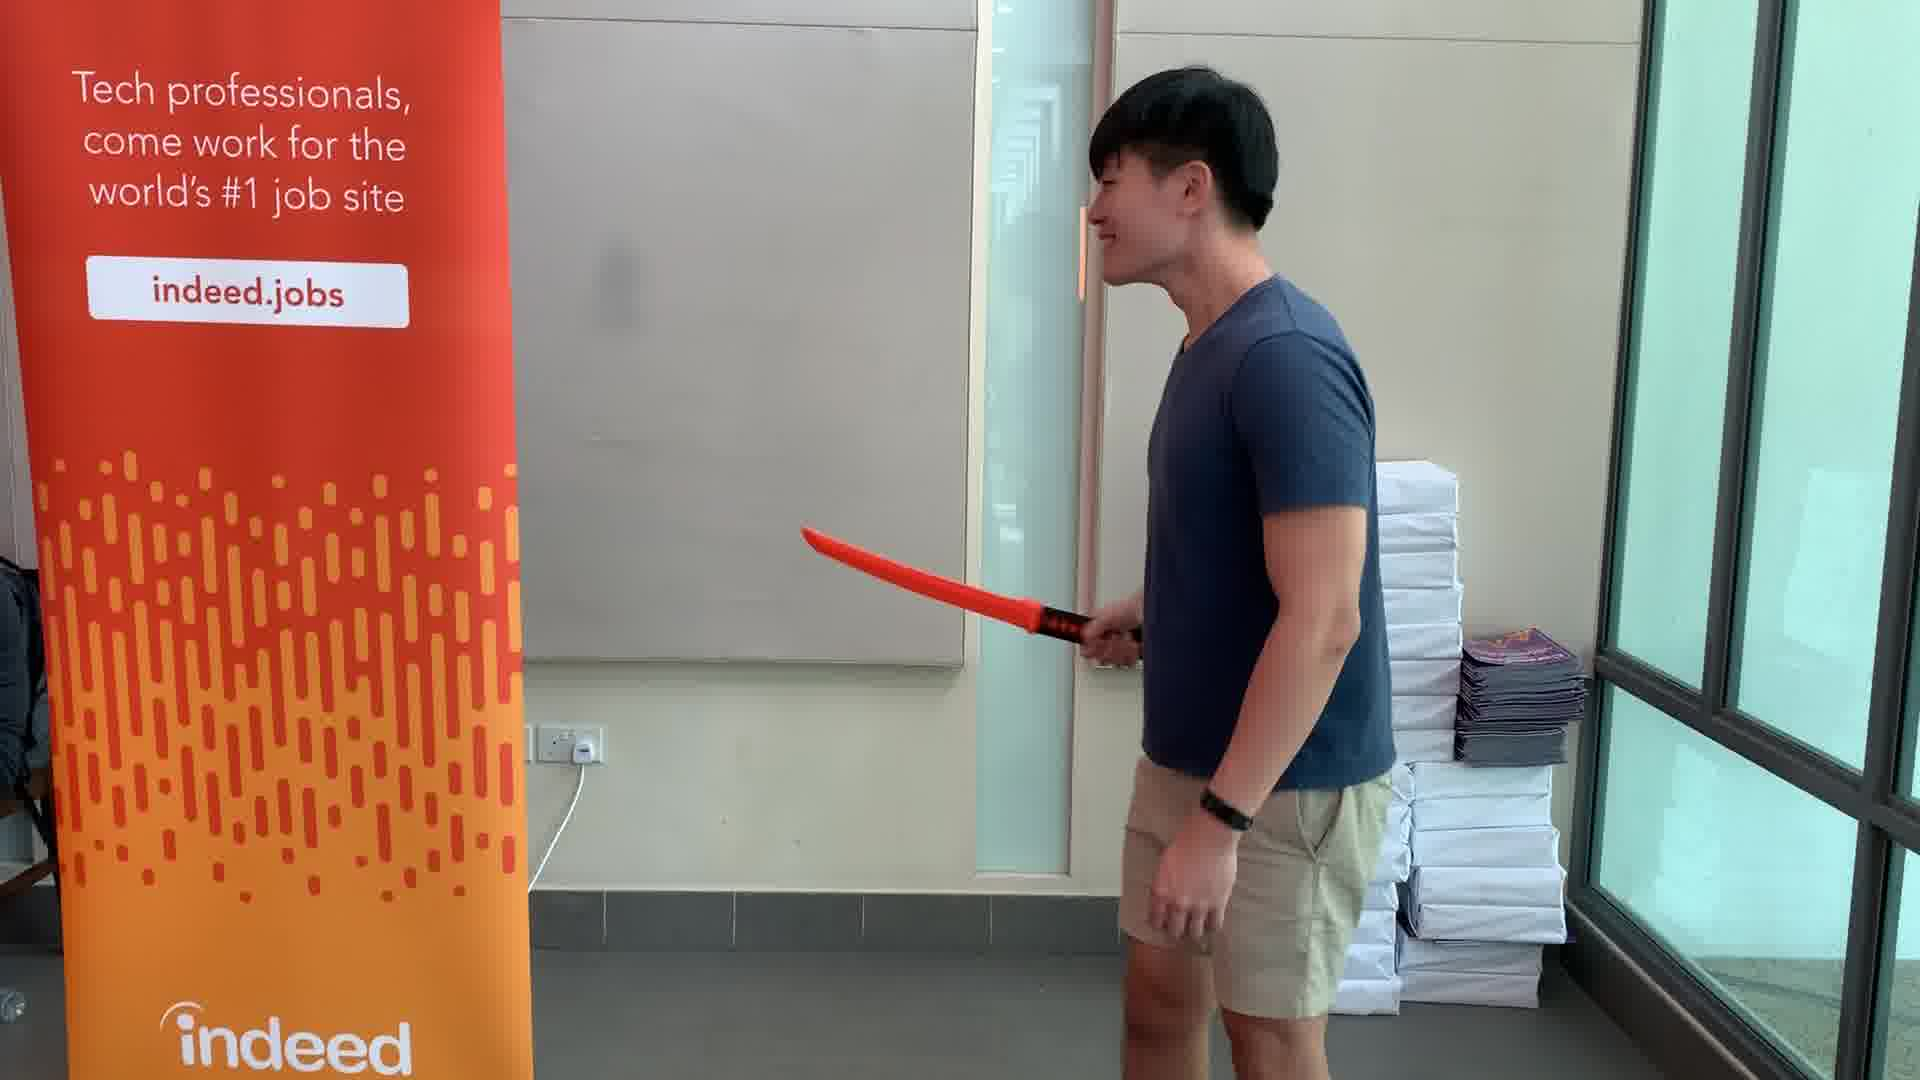knife: (798, 518, 1178, 665)
